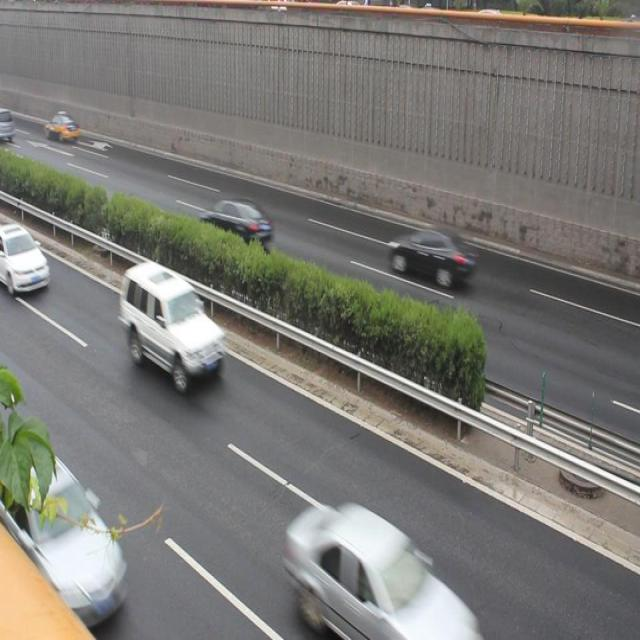car: (286, 506, 475, 640), (1, 442, 122, 614), (119, 264, 222, 380), (387, 226, 477, 288), (193, 199, 271, 253), (1, 221, 49, 297)
